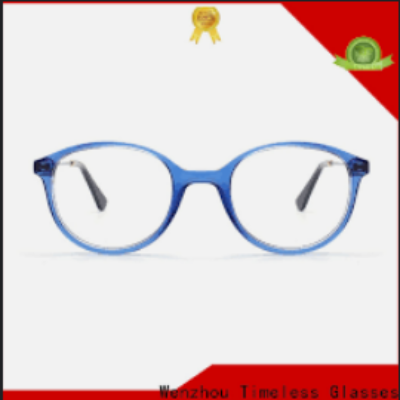glasses: (32, 138, 374, 258)
